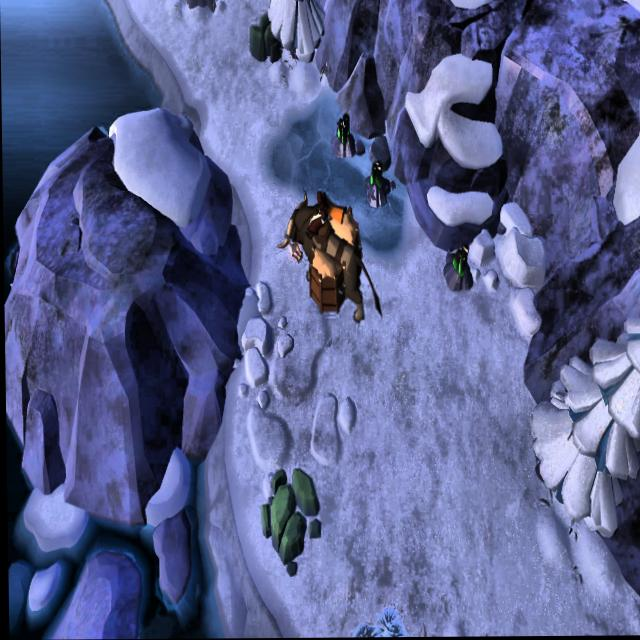ore_t3: (451, 243, 471, 282), (365, 157, 384, 194), (333, 110, 350, 147)
rock_t3: (255, 465, 321, 579), (247, 10, 284, 63)
